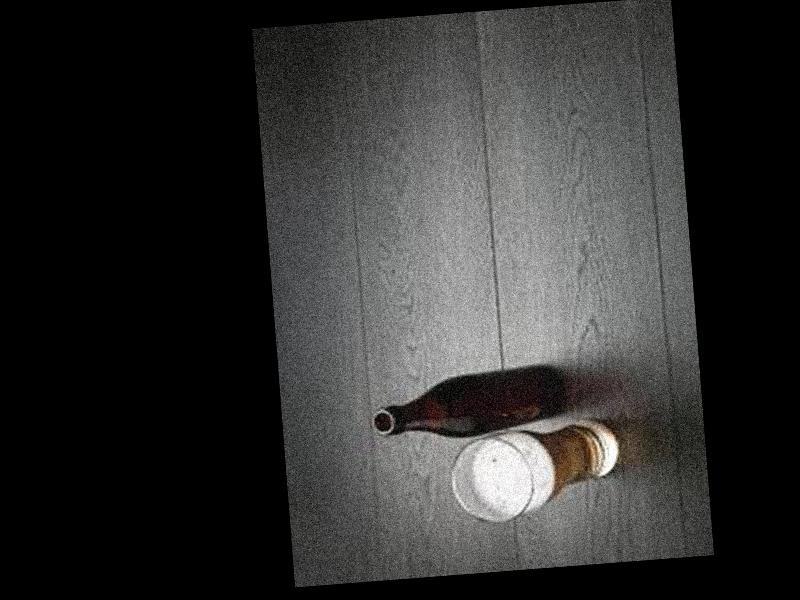Beer: (366, 361, 573, 446)
